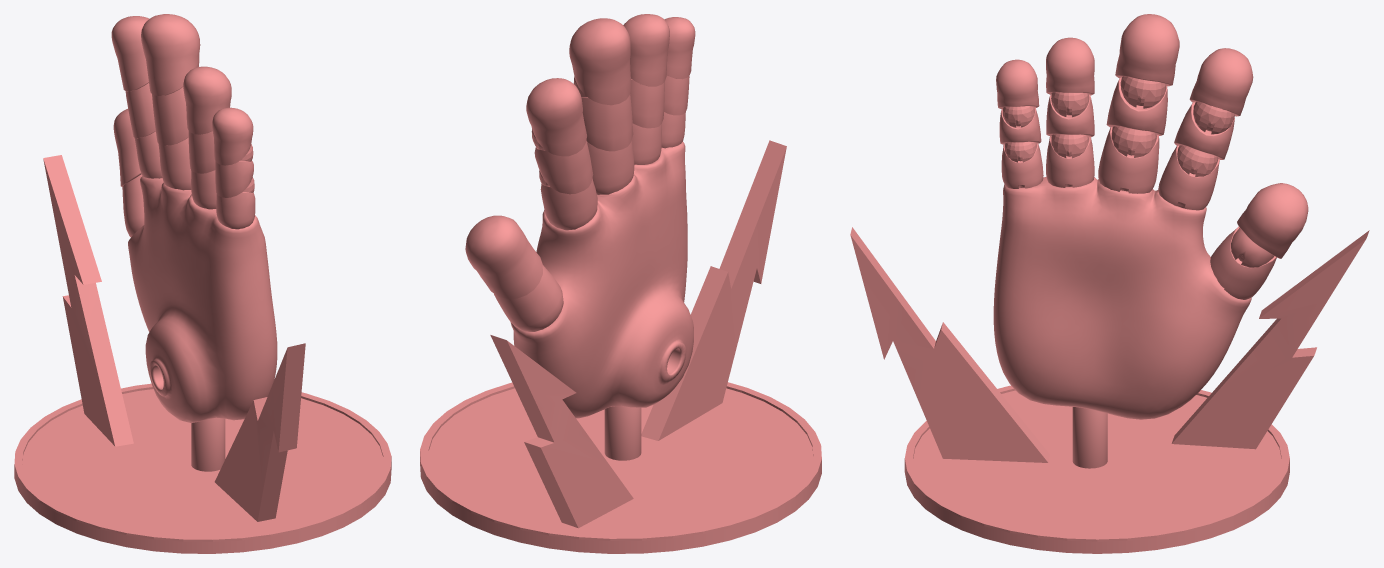
Rendered from statue hand model.fbx.
The picture shows the model from 3 angles, left to right: view 1: azimuth 30°, elevation 25°; view 2: azimuth 150°, elevation 25°; view 3: azimuth 270°, elevation 25°; orthographic projection. The views are drawn at different scales.
Visible parts, largest first — view 1: trophy_green_hand; view 2: trophy_green_hand; view 3: trophy_green_hand.
Boxes of the visible parts, <box> form: trophy_green_hand: <box>14,14,391,553</box>; trophy_green_hand: <box>420,14,821,553</box>; trophy_green_hand: <box>850,14,1369,553</box>.
Size of the model in its own units: 56.77 by 73.2 by 76.55.
